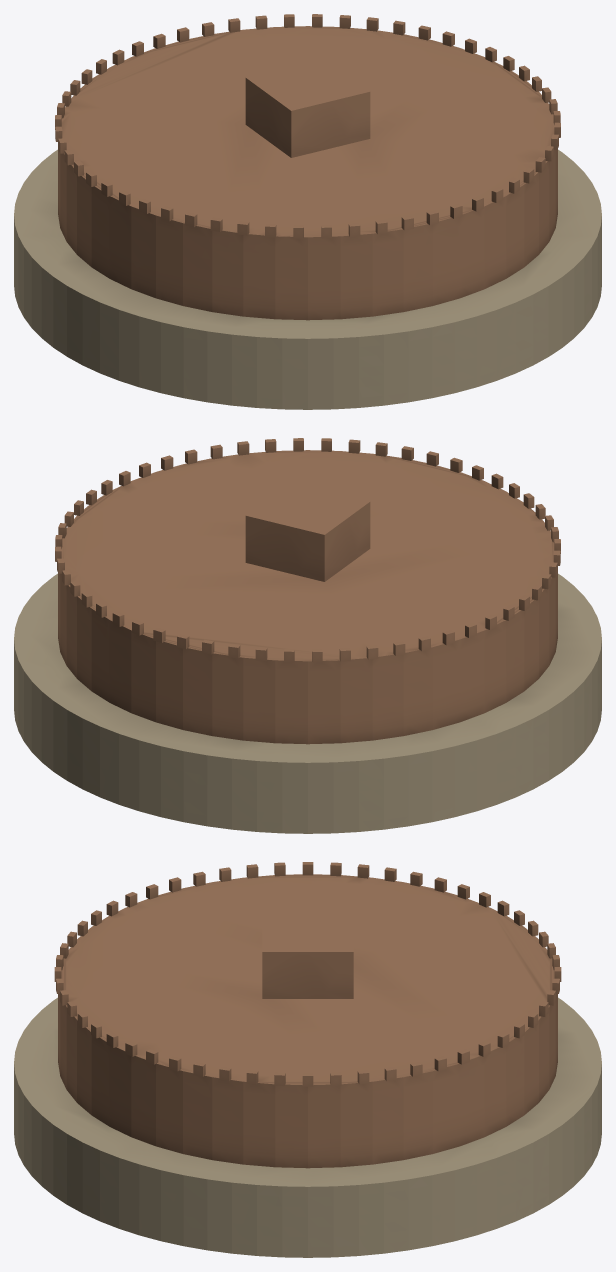
Rendered from mausoleum-of-augustus-fortress.glb.
3 views of the same model, one above another, from view 1: azimuth 30°, elevation 25°; view 2: azimuth 150°, elevation 25°; view 3: azimuth 270°, elevation 25° (orthographic).
Visible parts, largest first — view 1: p1_walls, p0_drum, p2_keep; view 2: p1_walls, p0_drum, p2_keep; view 3: p1_walls, p0_drum, p2_keep.
Part boxes in pixels (left/top/right/bottom): p1_walls: left=55, top=14, right=560, bottom=320; p0_drum: left=14, top=149, right=601, bottom=409; p2_keep: left=245, top=58, right=370, bottom=157; p1_walls: left=55, top=438, right=560, bottom=744; p0_drum: left=14, top=573, right=601, bottom=833; p2_keep: left=245, top=482, right=370, bottom=581; p1_walls: left=54, top=862, right=561, bottom=1168; p0_drum: left=14, top=997, right=601, bottom=1257; p2_keep: left=262, top=913, right=353, bottom=998.
Size of the model in its own units: 90 by 33.96 by 90.
